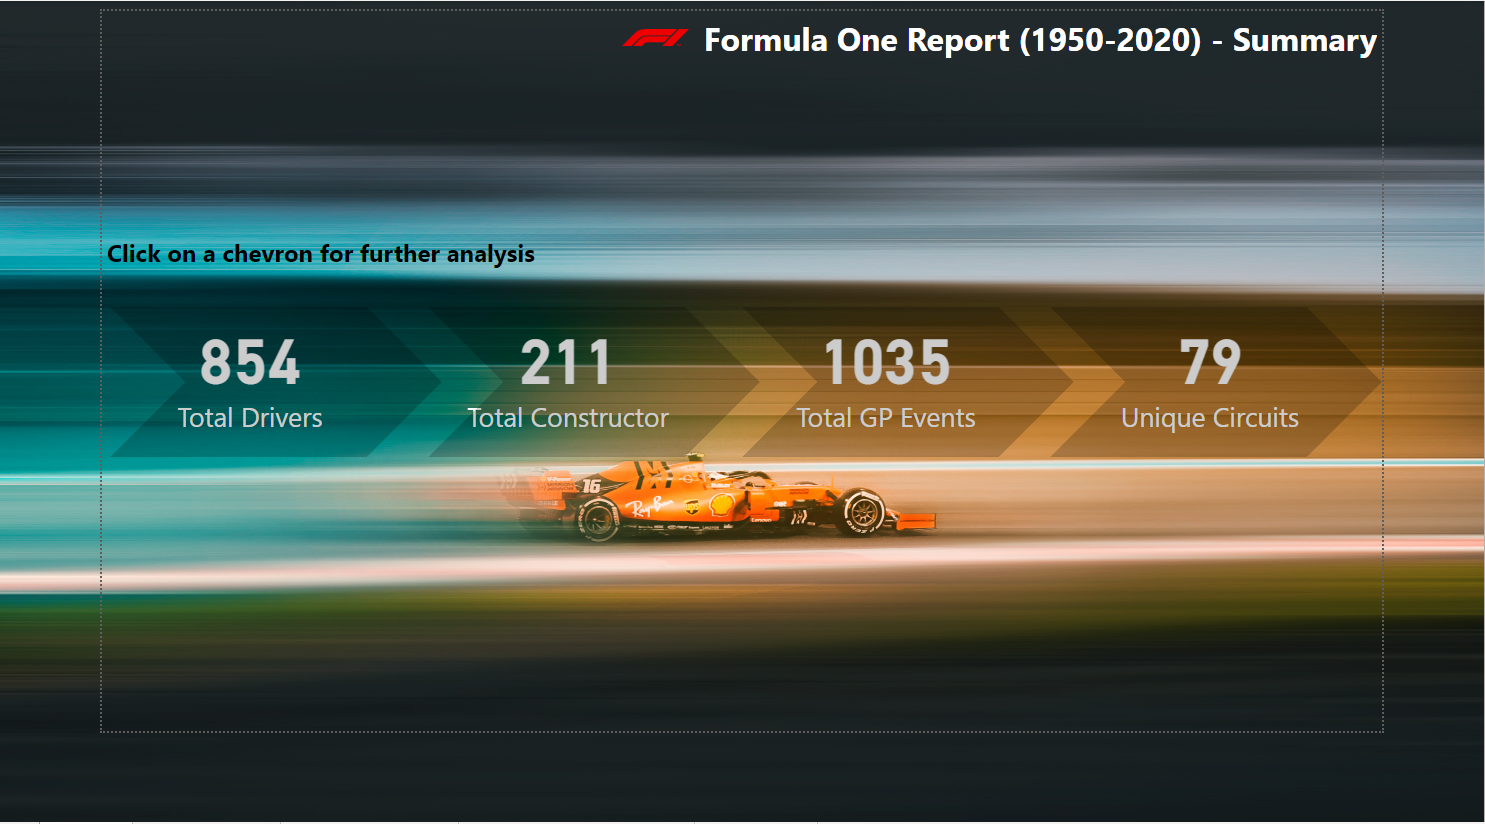

Layout of this report page (visuals, bound fields, positions):
{"tool":"powerbi","page":{"name":"Summary ","canvas":[1280,720],"ordinal":0},"visuals":[{"type":"textbox","box":[580,0,700,53],"z":0},{"type":"image","box":[515,0,77,53],"z":1000},{"type":"card","fields":{"Values":["Count(drivers.driver_name)"]},"box":[22,274.5,252,171],"z":2000},{"type":"textbox","box":[0,220,515,42],"z":3000},{"type":"card","fields":{"Values":["CountNonNull(races.grand_prix)"]},"box":[658,274.5,252,171],"z":4000},{"type":"card","fields":{"Values":["Count(constructors.constructor_name)"]},"box":[340,274.5,252,171],"z":5000},{"type":"card","fields":{"Values":["Count(circuits.circuit_name)"]},"box":[976,274.5,264,171],"z":6000},{"type":"shape","box":[326,296,332,150],"z":7000},{"type":"shape","box":[8,296,332,150],"z":8000},{"type":"shape","box":[640,296,332,150],"z":9000},{"type":"shape","box":[948,296,332,150],"z":10000}]}

Visuals, with their boxes in screenshot pixels (x1, y1, x2, y2), scaled from the page's 1280x720 canvas onto the 1485x824 screenshot:
textbox: <bbox>673, 0, 1484, 61</bbox>
image: <bbox>597, 0, 687, 61</bbox>
card - Count(drivers.driver_name): <bbox>26, 314, 318, 510</bbox>
textbox: <bbox>0, 252, 597, 300</bbox>
card - CountNonNull(races.grand_prix): <bbox>763, 314, 1056, 510</bbox>
card - Count(constructors.constructor_name): <bbox>394, 314, 687, 510</bbox>
card - Count(circuits.circuit_name): <bbox>1132, 314, 1439, 510</bbox>
shape: <bbox>378, 339, 763, 510</bbox>
shape: <bbox>9, 339, 394, 510</bbox>
shape: <bbox>742, 339, 1128, 510</bbox>
shape: <bbox>1100, 339, 1484, 510</bbox>
